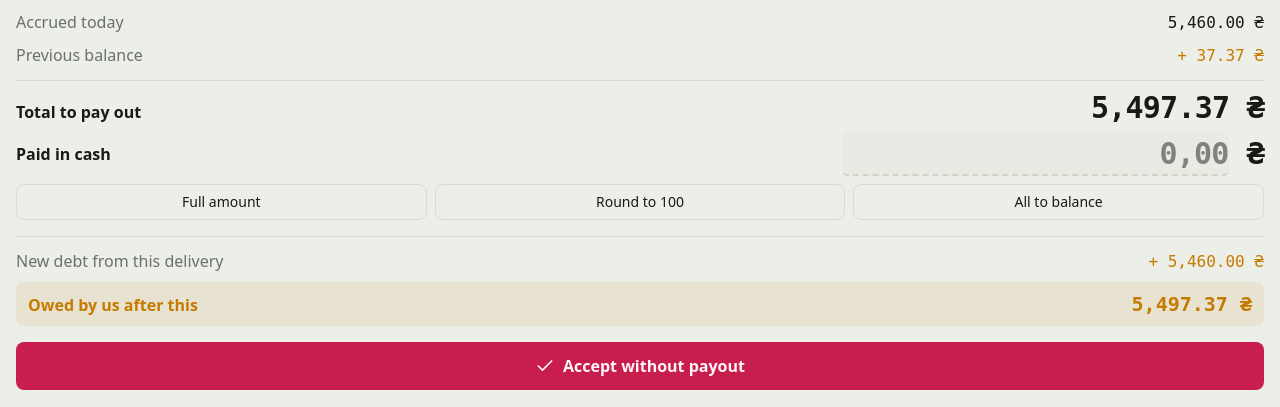
it: TotalsSection — the cap and the clamp › names the TOTAL instead once cash is ample enough that the cap IS the total (M2)
The width and height of the screenshot is (1280, 407).
Type "9999" into the field labelled "Paid in cash".
click(1035, 154); type("9999")  # box [842,132,1229,176]
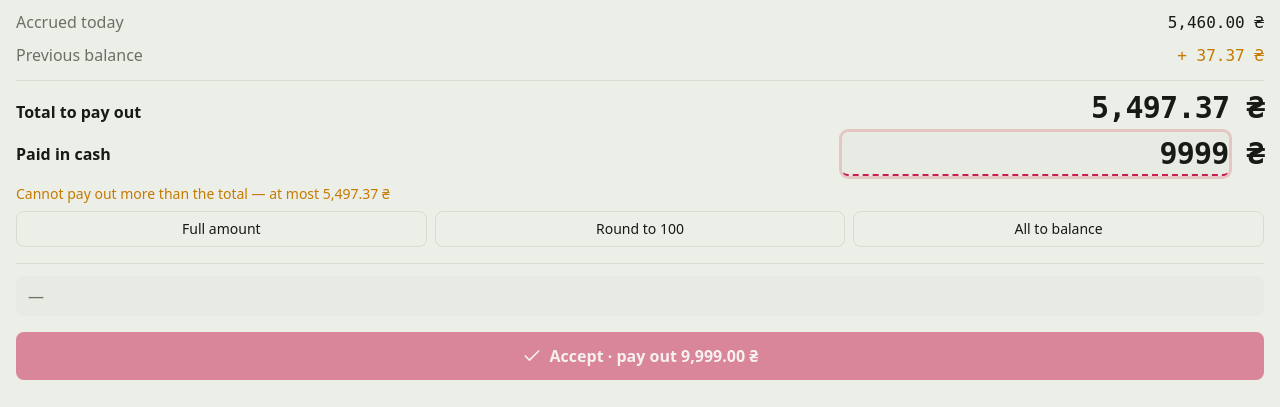
Expected: the text "Cannot pay out more than the total — at most 5,497.37 ₴" is shown, [16,184,390,203]
